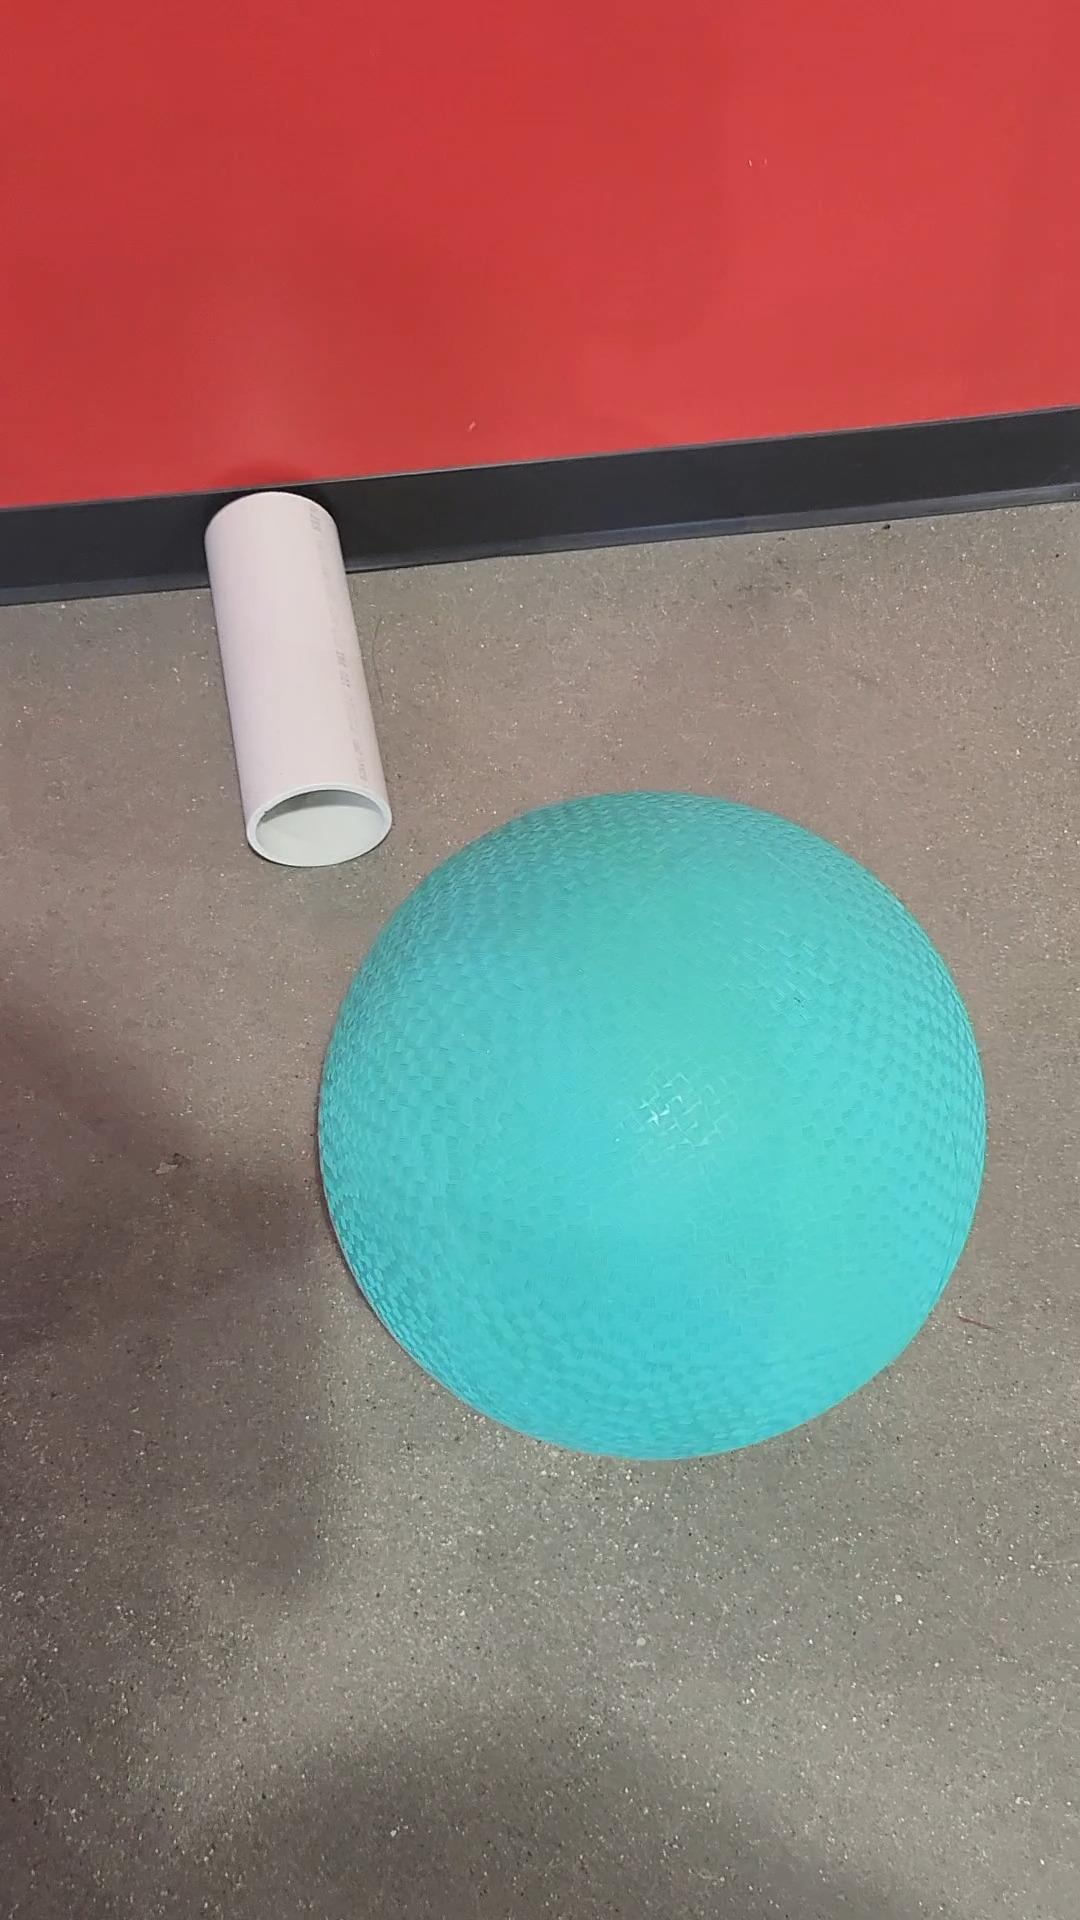algae: (311, 786, 994, 1465)
coral: (199, 489, 407, 864)
